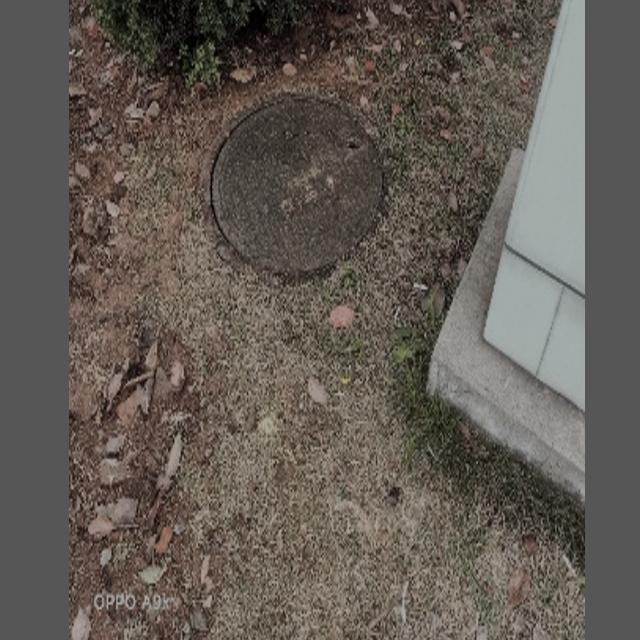good: (202, 91, 386, 284)
